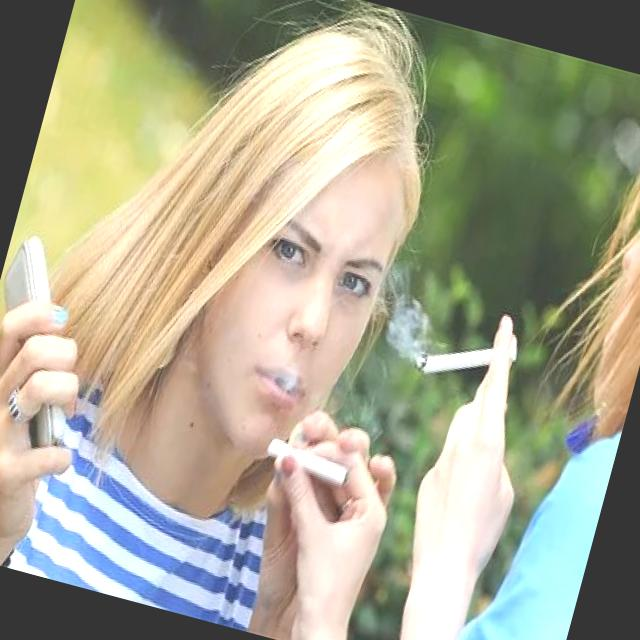smoke: (408, 315, 522, 401), (258, 433, 364, 507)
